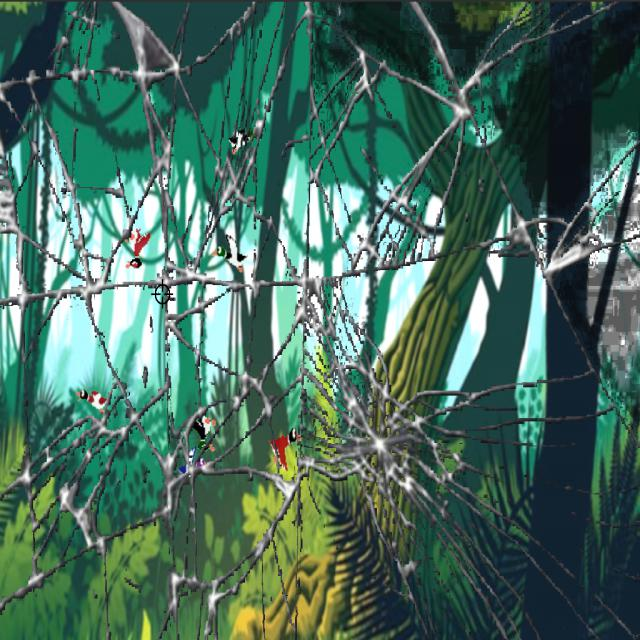duck: (209, 222, 249, 277), (268, 424, 305, 472), (224, 116, 256, 159), (74, 381, 114, 414), (176, 446, 211, 483)
falling_duck: (122, 222, 154, 272), (189, 404, 220, 454)
